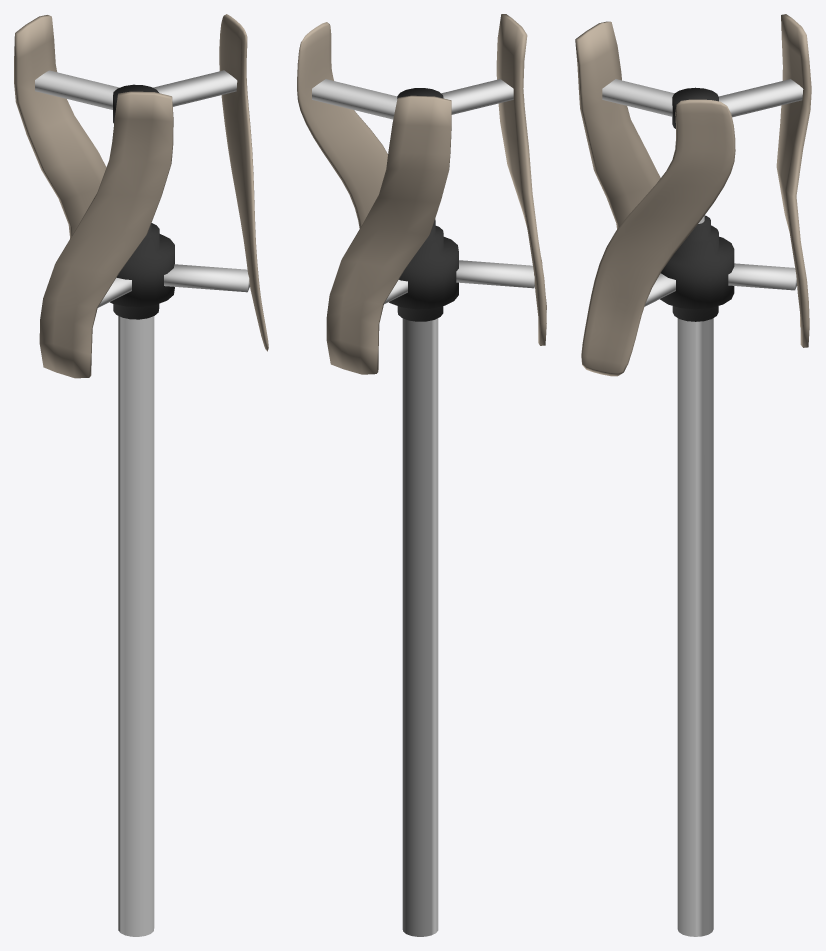
The model's file is R windmolentje.fbx.
3 renders of one model, left to right at view 1: azimuth 30°, elevation 25°; view 2: azimuth 150°, elevation 25°; view 3: azimuth 270°, elevation 25°, orthographic.
Parts seen in each view (by area): view 1: Blade.004; view 2: Blade.004; view 3: Blade.004.
Part boxes in pixels (box(x1,y1,x2,y2)): Blade.004: box(14, 14, 268, 936); Blade.004: box(297, 14, 546, 936); Blade.004: box(575, 14, 811, 936).
Size of the model in its own units: 65.88 by 257 by 62.47.
